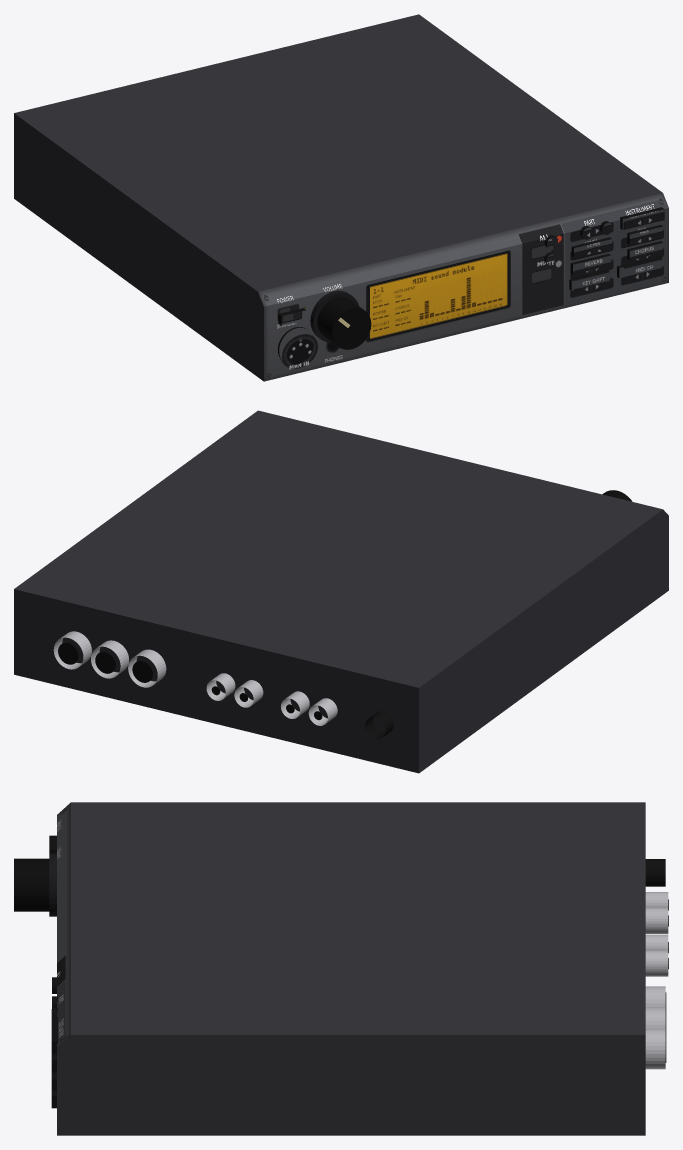
Rendered from midi-module.obj.
3 renders of one model, top to bottom at view 1: azimuth 30°, elevation 25°; view 2: azimuth 150°, elevation 25°; view 3: azimuth 270°, elevation 25°, orthographic. The views are drawn at different scales.
Visible parts, largest first — view 1: case_top, sc_front, case_side, knob_black, btn_black, knob_dark; view 2: case_top, case_rear, case_side, metal, btn_black; view 3: case_top, case_side, metal, sc_front, knob_black, btn_black, knob_dark.
Part boxes in pixels (x1,y1,x2,y2): case_top: [14, 14, 662, 291]; sc_front: [258, 193, 668, 381]; case_side: [14, 113, 263, 381]; knob_black: [317, 297, 371, 349]; btn_black: [278, 207, 664, 361]; knob_dark: [310, 290, 358, 342]; case_top: [14, 410, 662, 687]; case_rear: [14, 589, 418, 773]; case_side: [419, 509, 668, 773]; metal: [53, 631, 337, 725]; btn_black: [58, 642, 393, 739]; case_top: [71, 802, 645, 1034]; case_side: [57, 1035, 645, 1135]; metal: [645, 892, 668, 1069]; sc_front: [57, 802, 70, 1047]; knob_black: [14, 858, 49, 911]; btn_black: [49, 835, 668, 1108]; knob_dark: [49, 853, 56, 916].
Size of the model in its own units: 218 by 44 by 259.
Materials: 9 (1 with a texture image).
